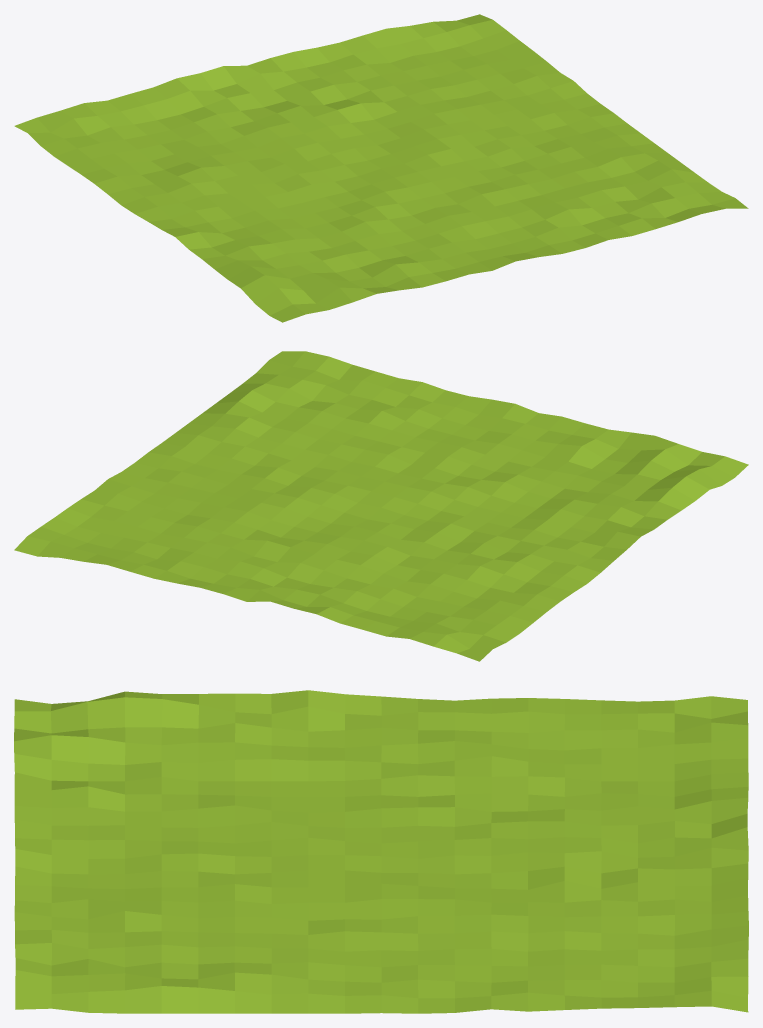
The model's file is _terrain2.fbx.
The picture shows the model from 3 angles, top to bottom: view 1: azimuth 30°, elevation 25°; view 2: azimuth 150°, elevation 25°; view 3: azimuth 270°, elevation 25°; orthographic projection. The views are drawn at different scales.
Parts seen in each view (by area): view 1: Plane_1; view 2: Plane_1; view 3: Plane_1.
Part boxes in pixels (x1,y1,x2,y2): Plane_1: [14, 14, 748, 322]; Plane_1: [14, 351, 748, 661]; Plane_1: [14, 690, 748, 1013].
Size of the model in its own units: 2144 by 68.49 by 2139.
